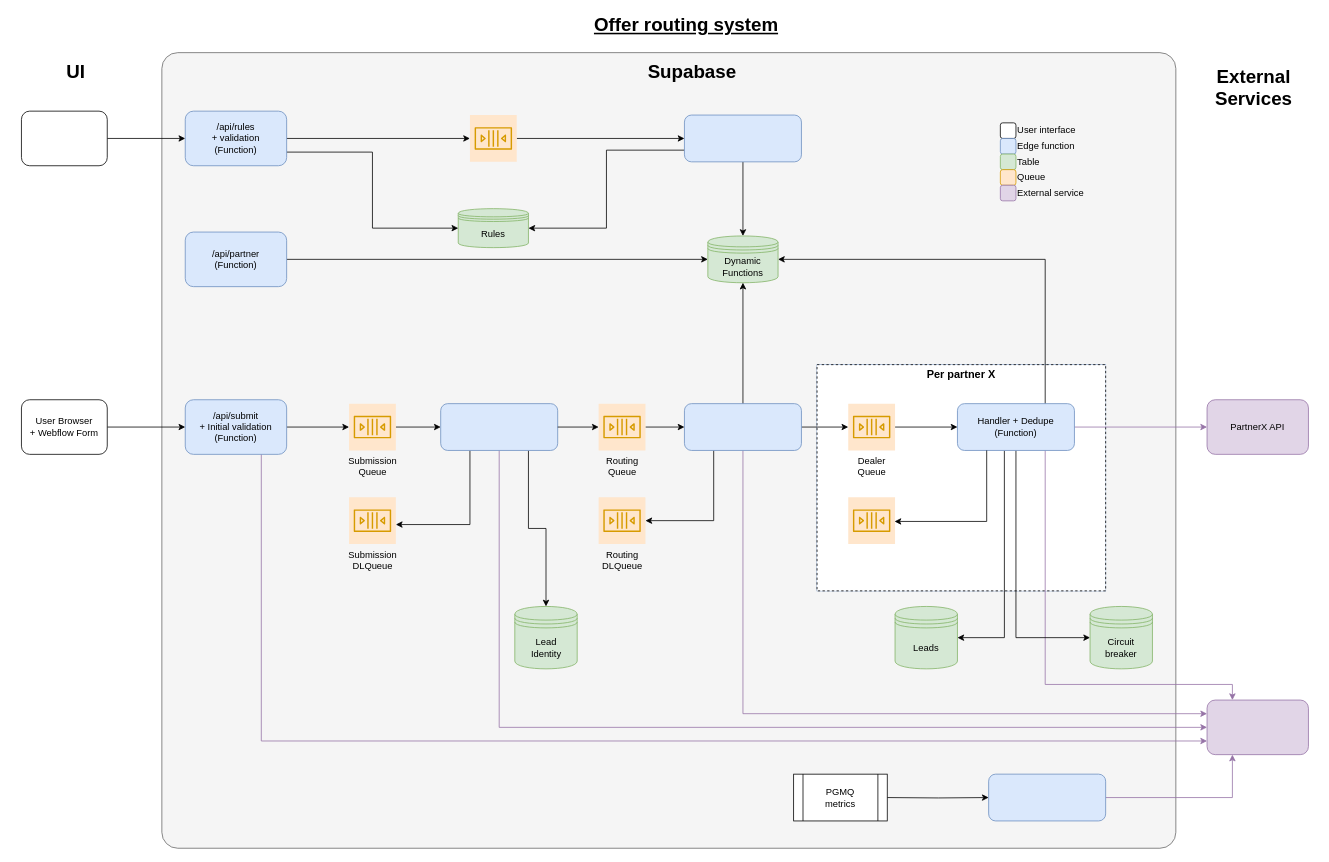
The diagram is 1329 pixels wide and 862 high, and some of its shapes have lost their labels. The shapes that lost their labels are listed below. From the top down, each one's box as (x1, y1, x2, y2) in pixels, then its label:
(21, 110, 107, 166): Rules Admin UI
(469, 114, 517, 162): Compile Queue
(684, 114, 801, 162): Rule Compiler (Function)
(440, 403, 558, 450): Identify lead (Function)
(684, 403, 801, 450): Router (Function)
(847, 496, 895, 544): Dealer DLQueue
(1206, 699, 1308, 755): Sentry (Logs + Dashboard)
(988, 773, 1106, 821): Queue metrics (Function)
